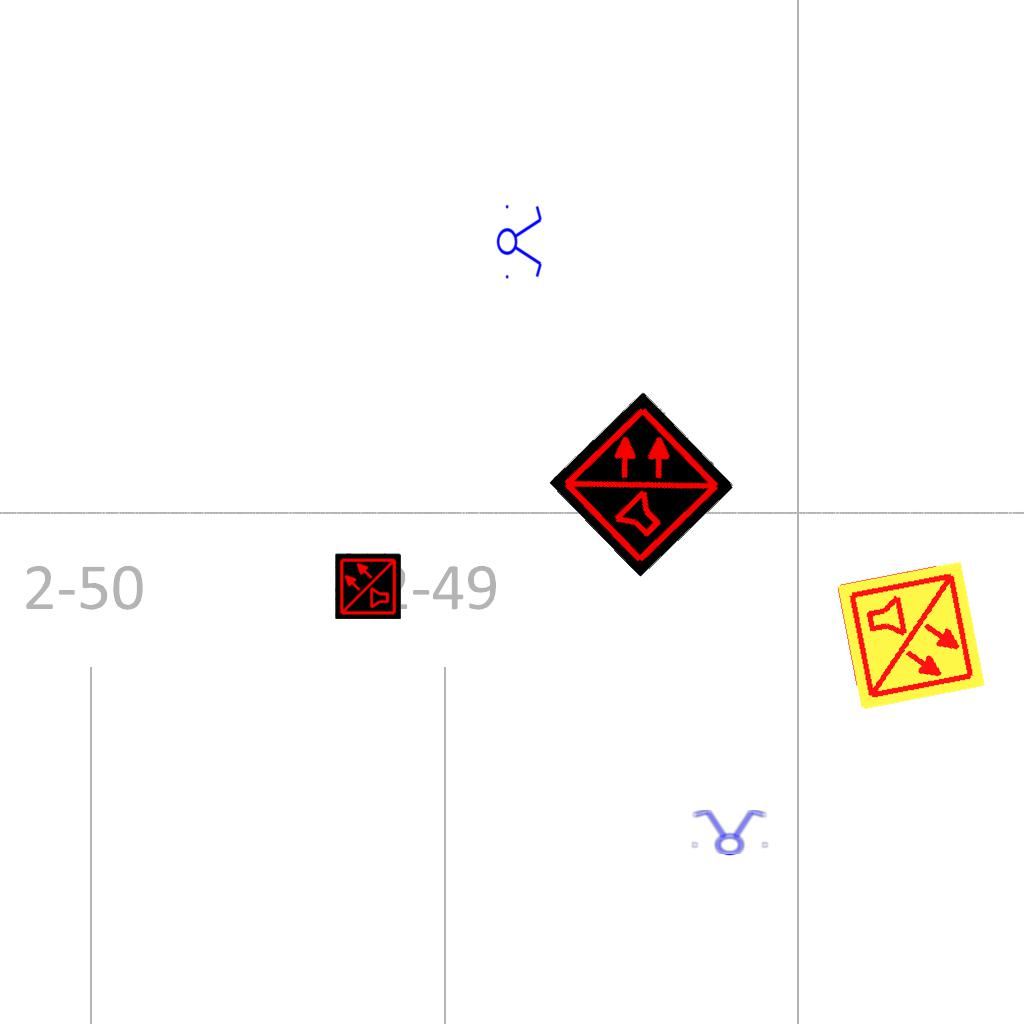OKW_Multisensormelder_(Kombination_optischer_Rauch-Kahlenmonoxid_Waerme-Melder): (548, 390, 736, 578), (833, 558, 989, 714), (335, 553, 401, 619)
Serienschalter: (687, 808, 771, 856), (496, 199, 544, 283)
